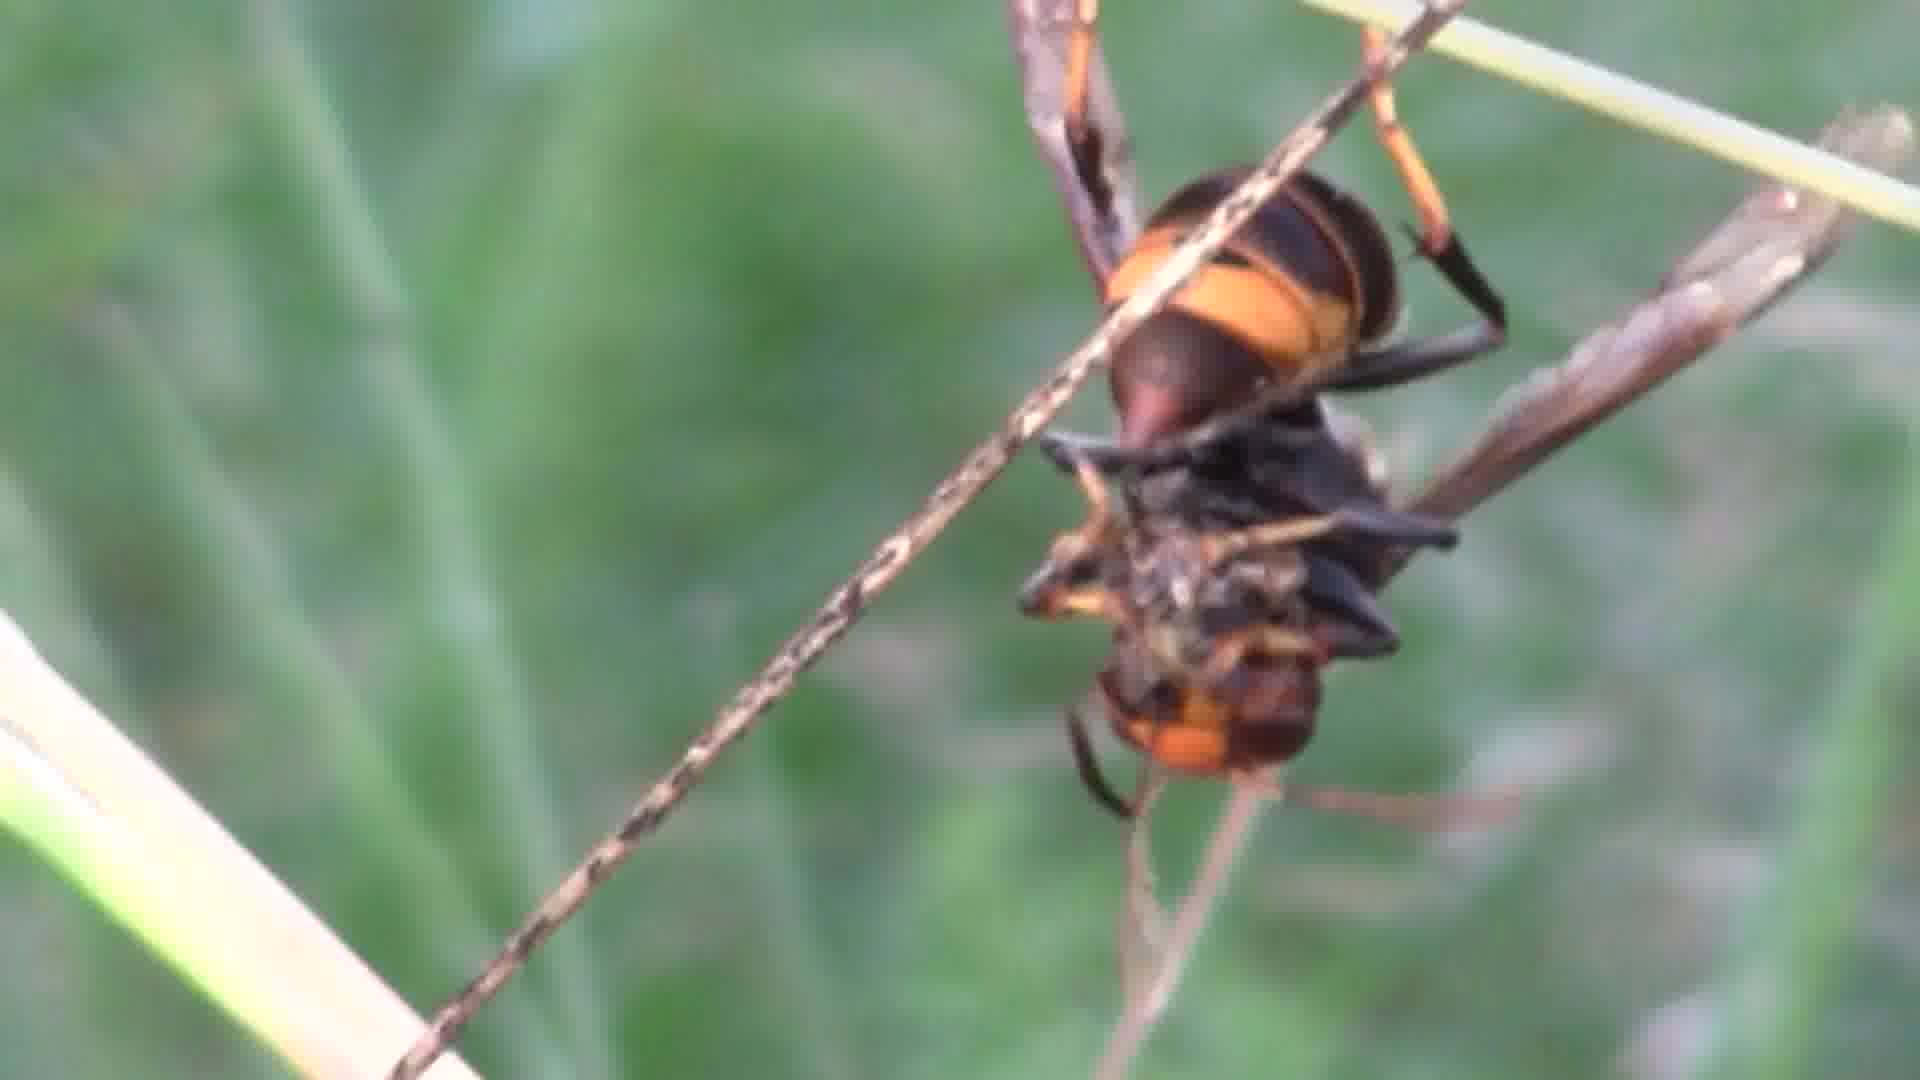hornet: (938, 0, 1590, 876)
